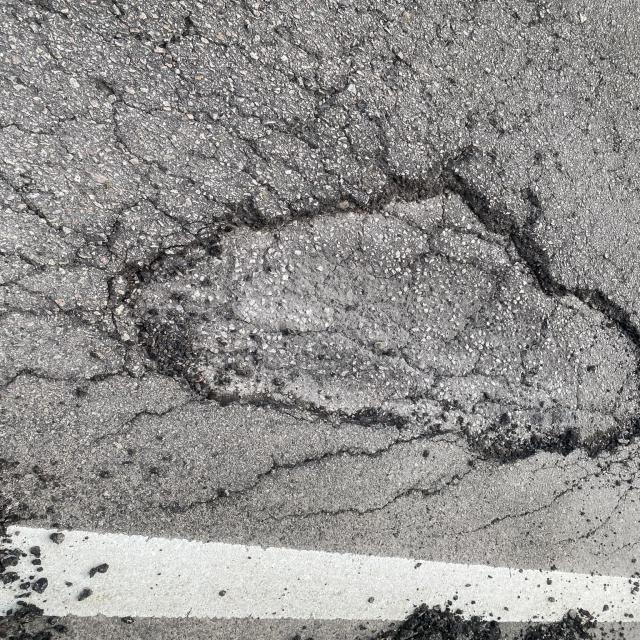pothole: (75, 84, 640, 556)
